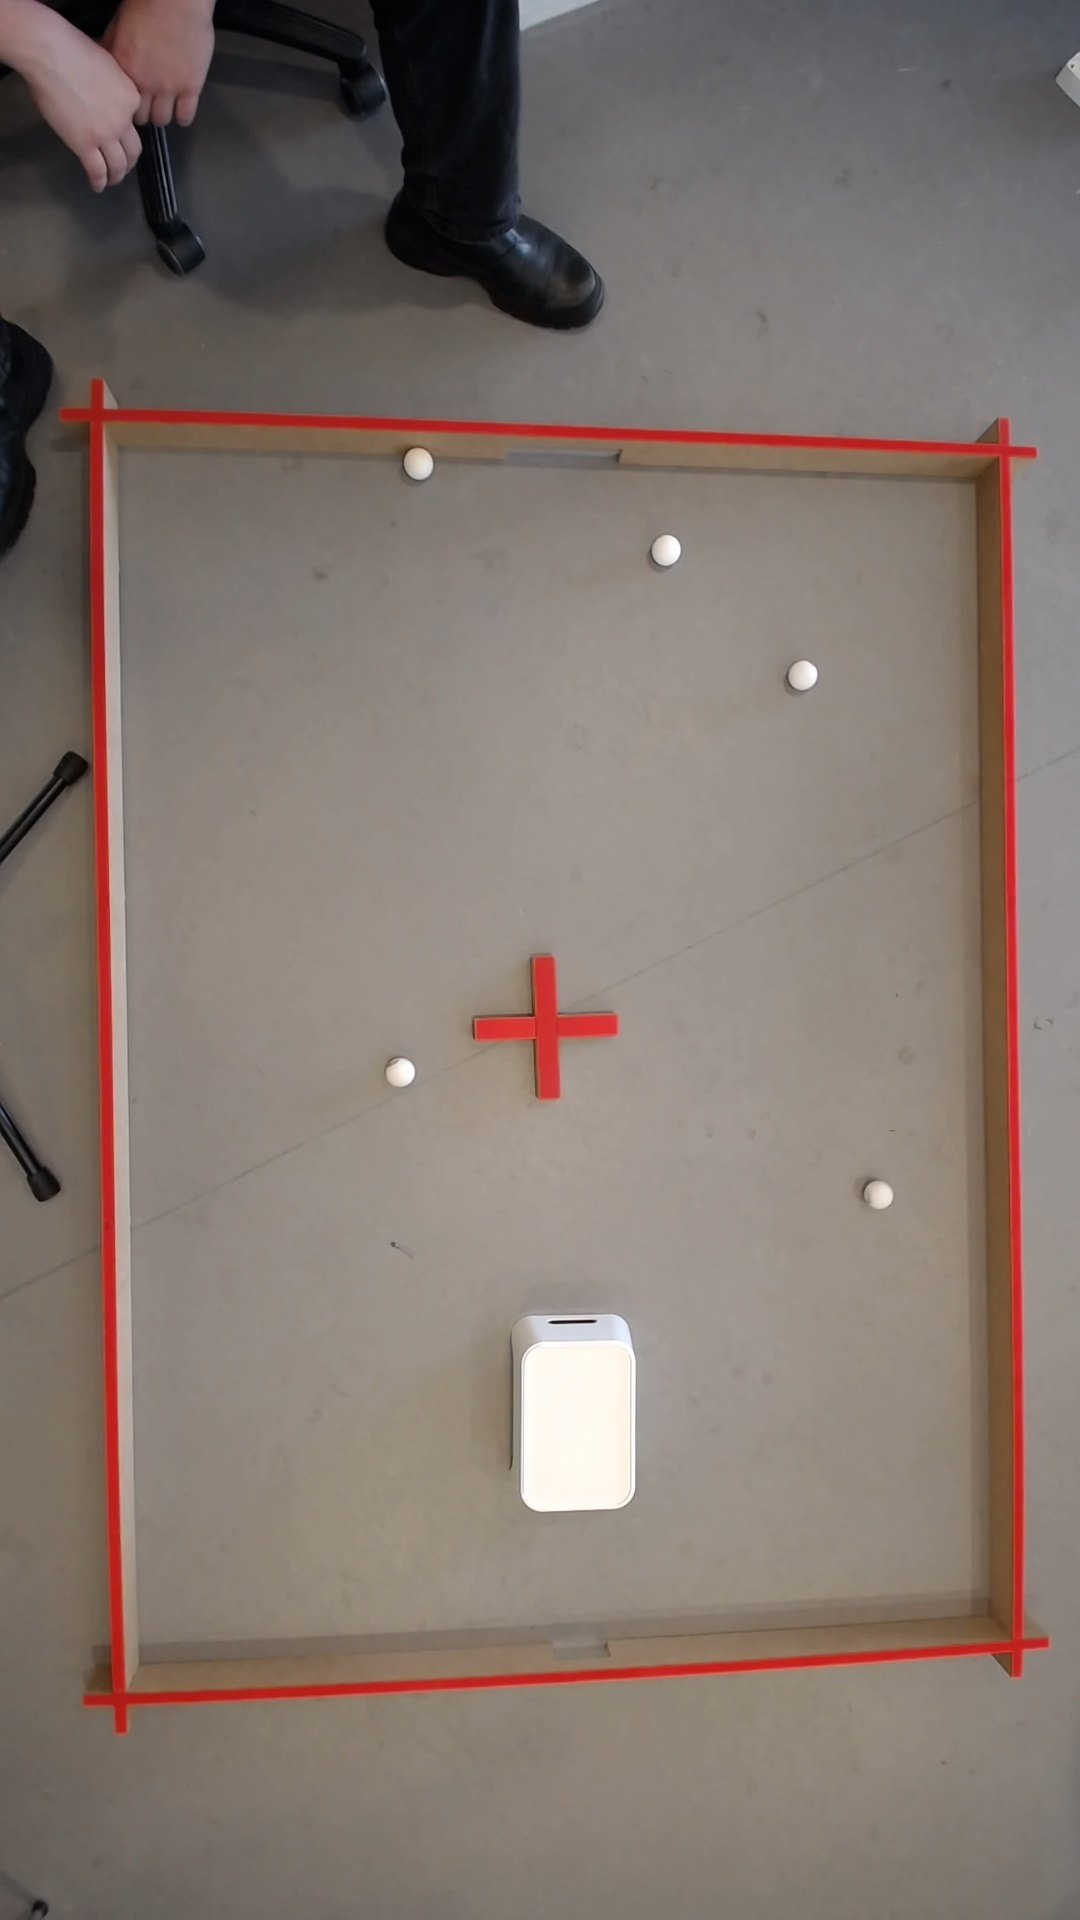balls: (650, 531, 684, 568), (385, 1054, 419, 1089), (790, 658, 820, 691), (869, 1182, 897, 1211), (414, 452, 433, 476)
car: (629, 1360, 632, 1486)
